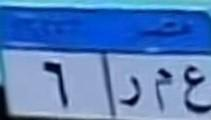6: (39, 60, 72, 111)
ر: (119, 62, 150, 115)
ع: (175, 60, 211, 116)
م: (149, 62, 173, 116)
